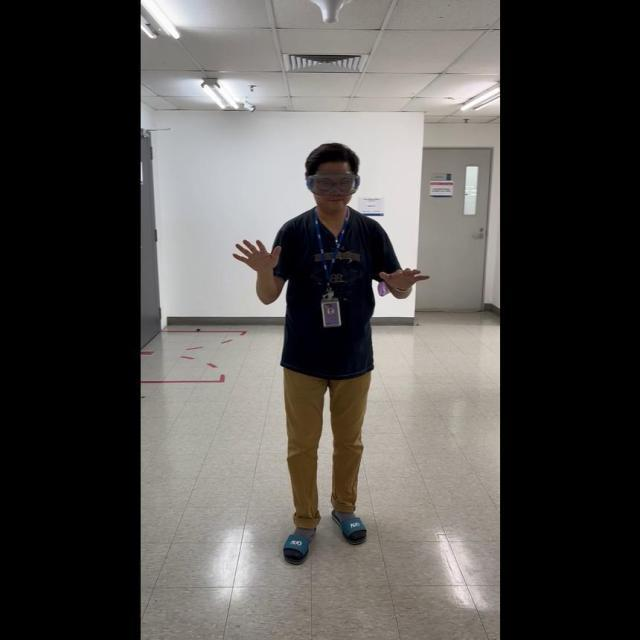bare_hand: (231, 234, 282, 272), (377, 262, 429, 295)
